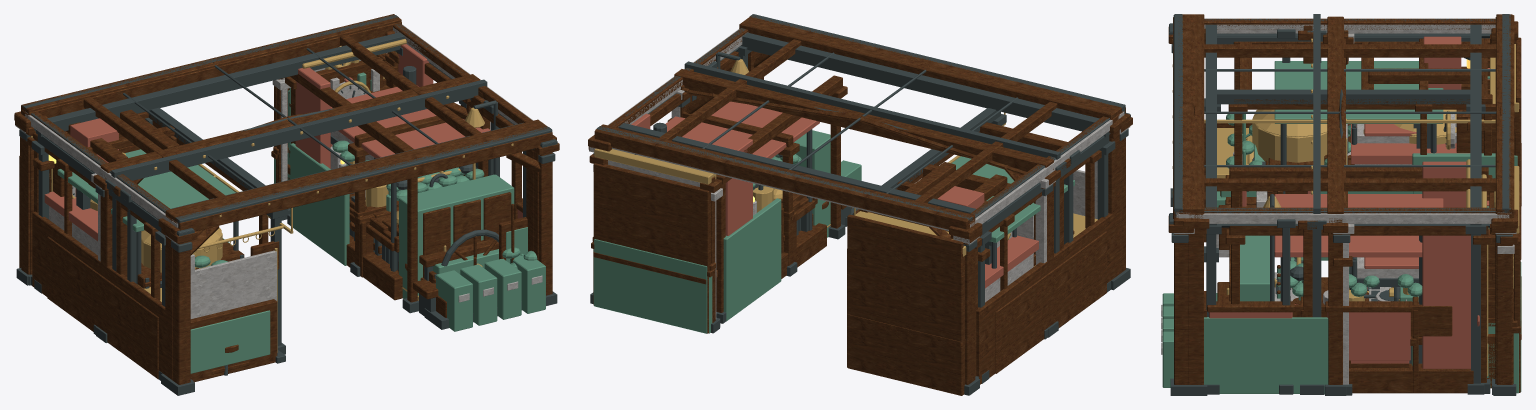
Rendered from expansion-interiors-v1.glb.
3 renders of one model, left to right at view 1: azimuth 30°, elevation 25°; view 2: azimuth 150°, elevation 25°; view 3: azimuth 270°, elevation 25°, orthographic. The views are drawn at different scales.
Visible parts, largest first — view 1: B07_wood, B25_wood, B16_iron, B10_iron, B19_wood, B01_wood, B04_linen, B13_wood, B19_green, B22_iron, B07_green, B16_wood (+23 smaller); view 2: B19_wood, B01_wood, B25_wood, B07_wood, B16_iron, B13_wood, B28_green, B10_iron, B04_linen, B04_green, B16_wood, B22_iron (+11 smaller); view 3: B07_wood, B25_wood, B16_iron, B25_green, B19_wood, B13_wood, B10_iron, B09_red, B04_linen, B22_iron, B10_red, B07_red (+25 smaller).
Part boxes in pixels (x1=…): B07_wood: x1=15, y1=22, x2=559, y2=384; B25_wood: x1=14, y1=14, x2=544, y2=380; B16_iron: x1=31, y1=32, x2=526, y2=380; B10_iron: x1=23, y1=15, x2=557, y2=383; B19_wood: x1=23, y1=14, x2=548, y2=283; B01_wood: x1=26, y1=54, x2=534, y2=378; B04_linen: x1=15, y1=24, x2=533, y2=318; B13_wood: x1=14, y1=20, x2=556, y2=317; B19_green: x1=436, y1=254, x2=545, y2=331; B22_iron: x1=21, y1=15, x2=556, y2=385; B07_green: x1=190, y1=227, x2=527, y2=373; B16_wood: x1=32, y1=88, x2=514, y2=374; B19_wood: x1=598, y1=15, x2=1121, y2=395; B01_wood: x1=589, y1=54, x2=1119, y2=373; B25_wood: x1=588, y1=19, x2=1126, y2=384; B07_wood: x1=588, y1=39, x2=1132, y2=384; B16_iron: x1=618, y1=32, x2=1115, y2=383; B13_wood: x1=588, y1=51, x2=1130, y2=395; B28_green: x1=594, y1=154, x2=801, y2=333; B10_iron: x1=597, y1=14, x2=1130, y2=327; B04_linen: x1=589, y1=29, x2=1130, y2=318; B04_green: x1=593, y1=198, x2=781, y2=333; B16_wood: x1=592, y1=213, x2=1112, y2=384; B22_iron: x1=597, y1=14, x2=1130, y2=269; B07_wood: x1=1168, y1=16, x2=1519, y2=393; B25_wood: x1=1183, y1=14, x2=1517, y2=384; B16_iron: x1=1204, y1=24, x2=1486, y2=394; B25_green: x1=1204, y1=317, x2=1328, y2=393; B19_wood: x1=1178, y1=14, x2=1521, y2=317; B13_wood: x1=1173, y1=15, x2=1520, y2=384; B10_iron: x1=1169, y1=14, x2=1509, y2=394; B09_red: x1=1242, y1=161, x2=1470, y2=368; B04_linen: x1=1173, y1=24, x2=1516, y2=384; B22_iron: x1=1169, y1=14, x2=1513, y2=394; B10_red: x1=1274, y1=194, x2=1443, y2=257; B07_red: x1=1209, y1=312, x2=1410, y2=363.
Size of the model in its own units: 7.08 by 3.09 by 5.39.
7 materials, 2 textured.
